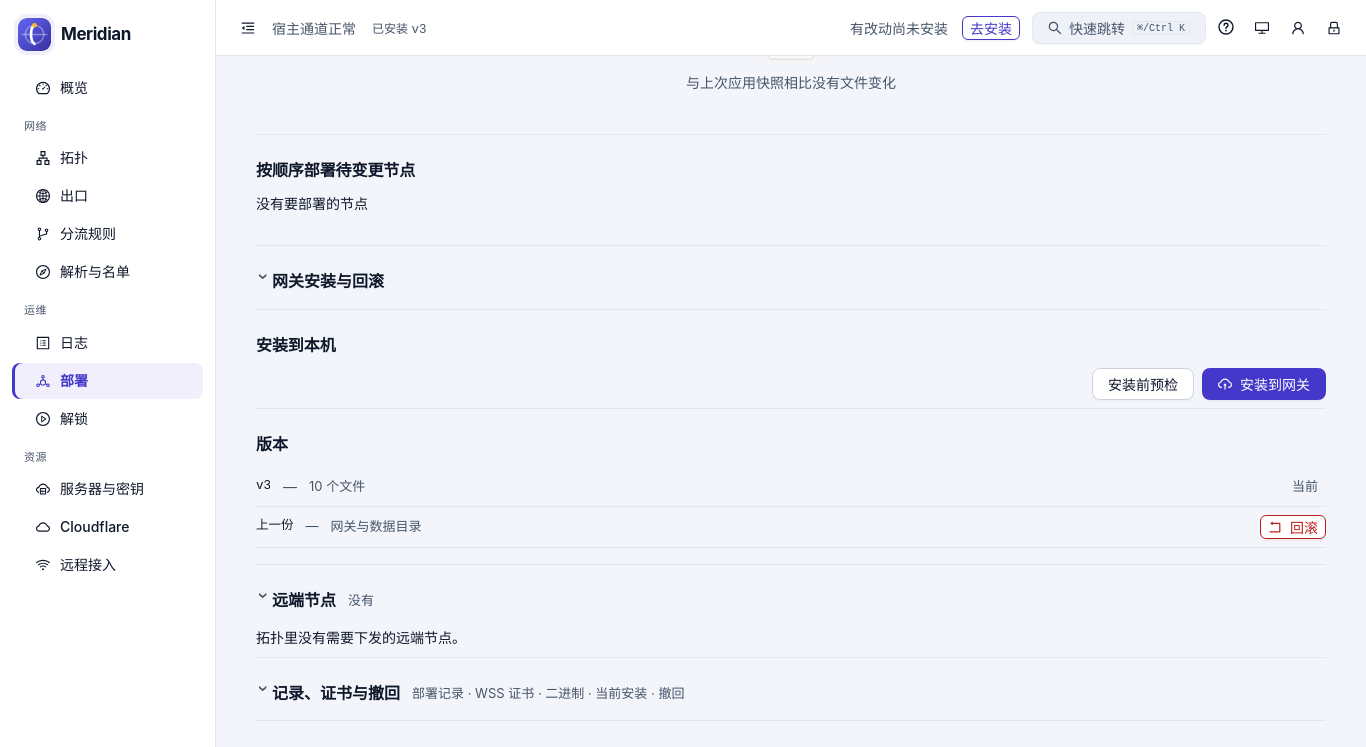
lists missing from a preflight answer › the gateway preflight with a null list shows on the deploy page and install stays possible
(page scrolled)
Click the button with test id "host-preflight-run": (1143, 384) x1=1092 y1=368 x2=1194 y2=400
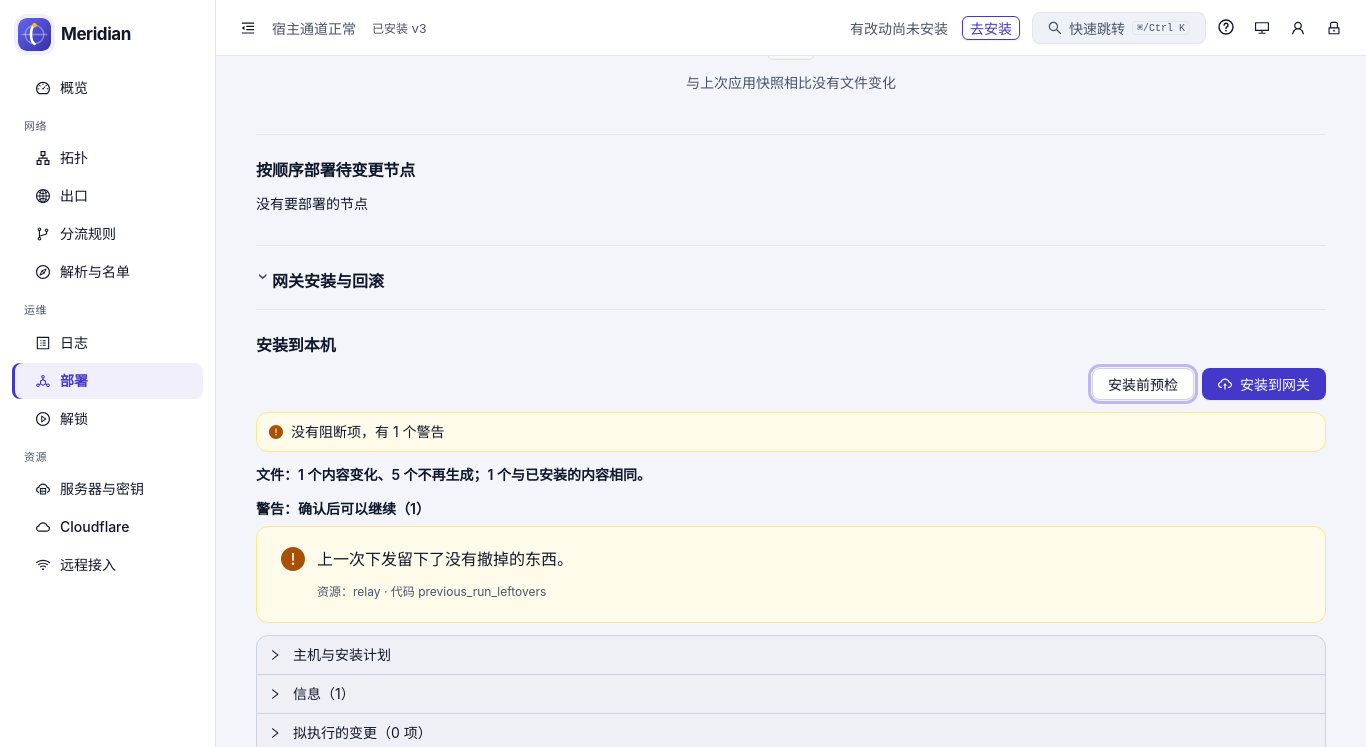
Expected: the button "安装到网关" is enabled, x1=1202 y1=368 x2=1326 y2=400
Now the element with test id "host-preflight" shows "5 个不再生成", box x1=256 y1=466 x2=651 y2=483
